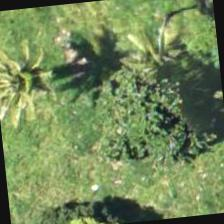Kelapa_Sawit: (0, 26, 69, 124)
